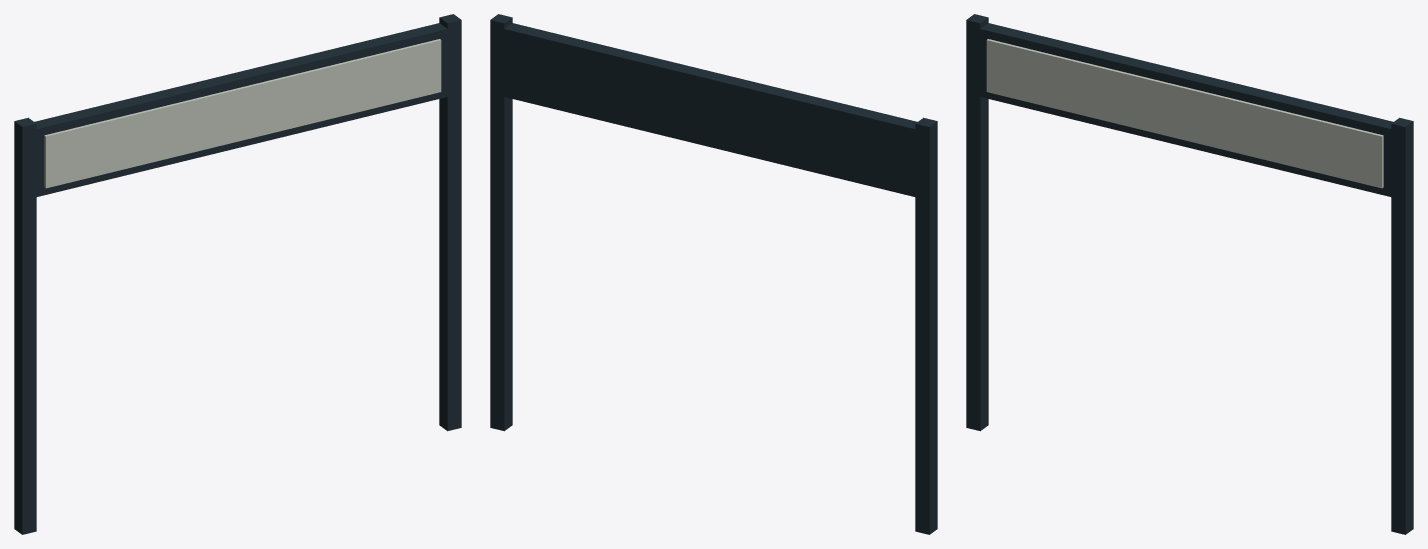
The model's file is gantry.glb.
3 views of the same model, side by side, from view 1: azimuth 30°, elevation 25°; view 2: azimuth 150°, elevation 25°; view 3: azimuth 330°, elevation 25° (orthographic).
Visible parts, largest first — view 1: gantry_VISUAL; view 2: gantry_VISUAL; view 3: gantry_VISUAL.
Part boxes in pixels (x1,y1,x2,y2): gantry_VISUAL: [14, 14, 461, 534]; gantry_VISUAL: [490, 14, 937, 534]; gantry_VISUAL: [966, 14, 1413, 534].
Size of what is drawn, in the model's own units: 13.29 by 11.79 by 0.5125.
2 materials, 2 textured.
